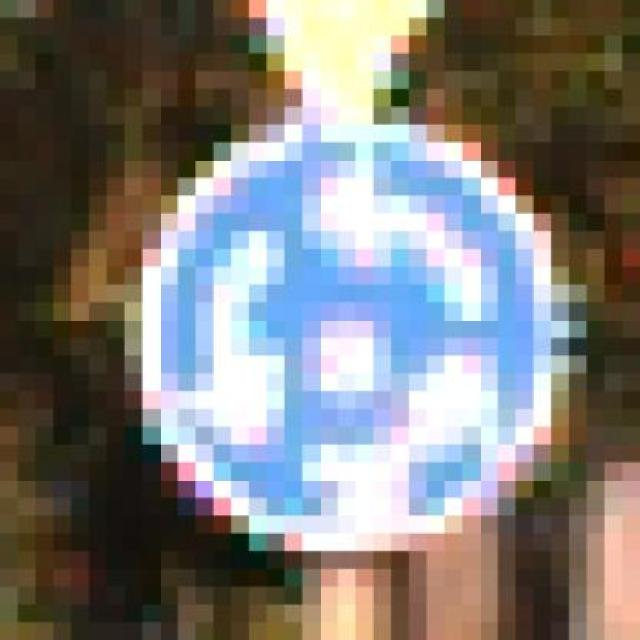Round-About: (53, 106, 622, 605)
